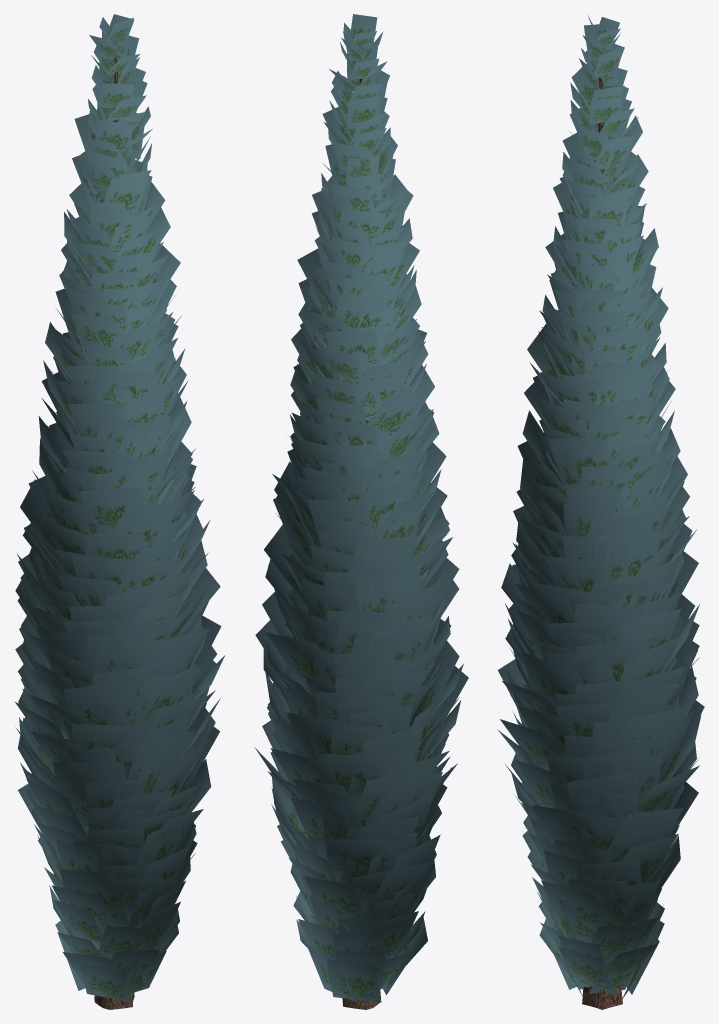
The model's file is italian-cypress.glb.
3 renders of one model, left to right at view 1: azimuth 30°, elevation 25°; view 2: azimuth 150°, elevation 25°; view 3: azimuth 270°, elevation 25°, orthographic.
Parts seen in each view (by area): view 1: Leaves; view 2: Leaves; view 3: Leaves, Trunk.
Boxes of the visible parts, left/top/right/bottom form: Leaves: left=14, top=14, right=224, bottom=1002; Leaves: left=254, top=14, right=468, bottom=1002; Leaves: left=497, top=14, right=704, bottom=999; Trunk: left=582, top=77, right=622, bottom=1009.
Size of the model in its own units: 2.66 by 13.64 by 2.61.
2 materials, 2 textured.
